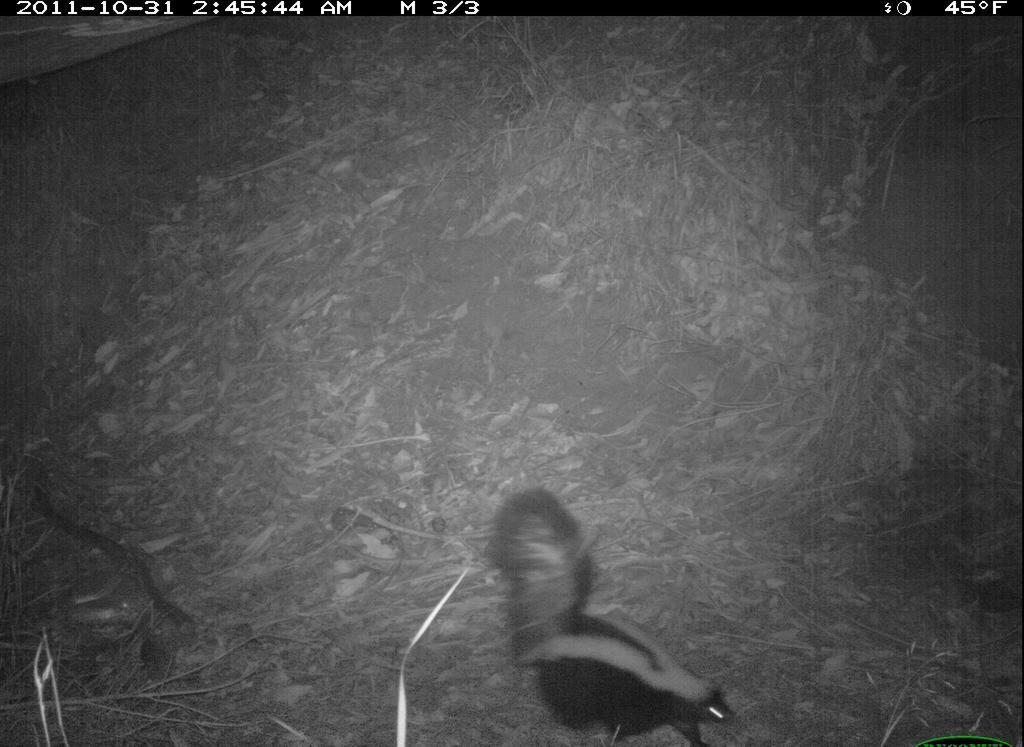skunk: (491, 477, 745, 747)
